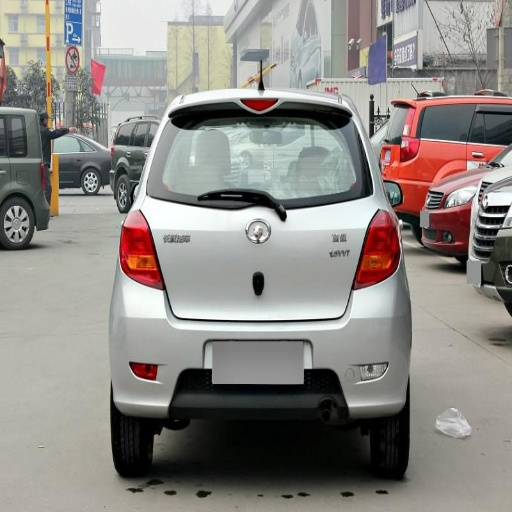back_bumper: (108, 269, 409, 419)
trunk: (144, 199, 380, 320), (2, 160, 43, 203)
